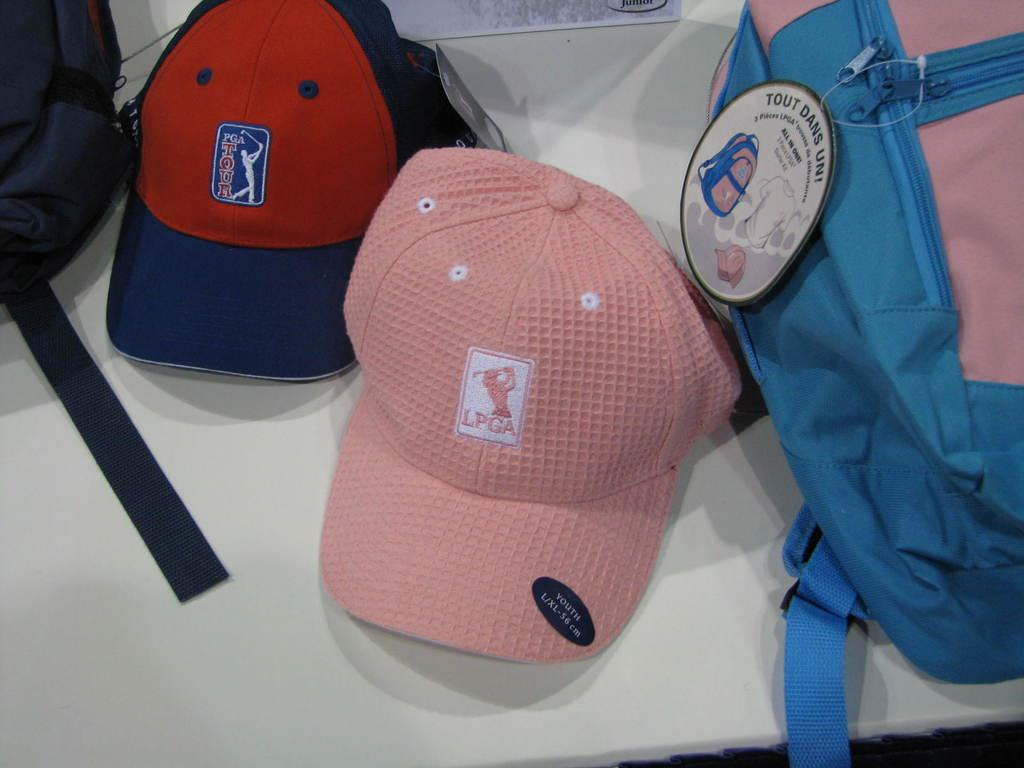Hat: (314, 146, 748, 662), (106, 0, 462, 382)
